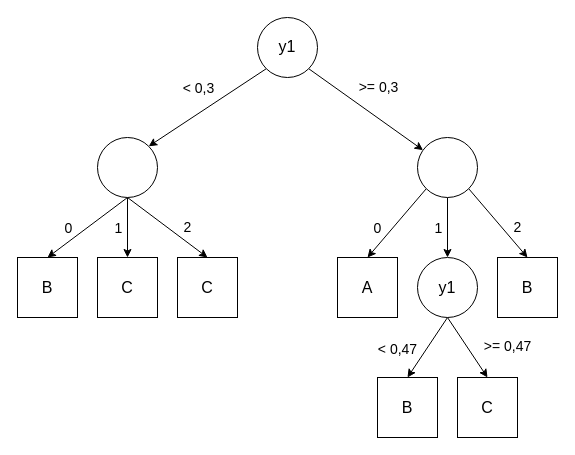
This 575x455 diagram has some shape labels left out. Here are the shapes that lost their labels. From the top down, the centre of each, then its label:
(127,167): y2
(447,167): y3
